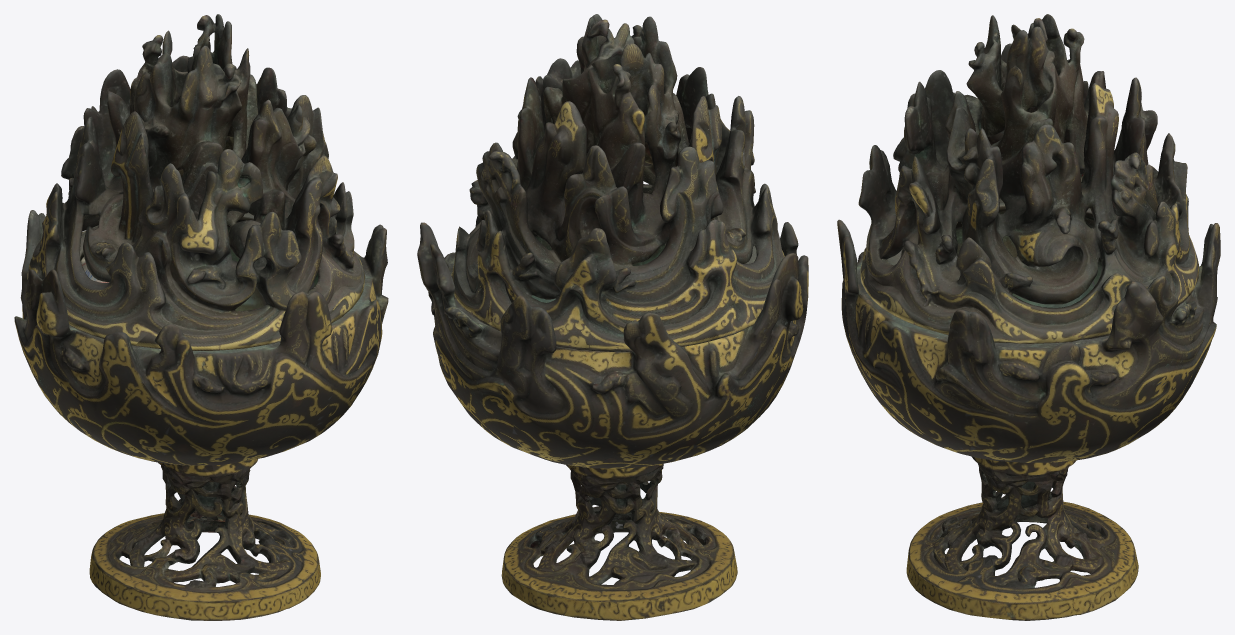
Rendered from CuoJintongBoShanLv.obj.
3 renders of one model, left to right at view 1: azimuth 30°, elevation 25°; view 2: azimuth 150°, elevation 25°; view 3: azimuth 270°, elevation 25°, orthographic.
Visible parts, largest first — view 1: CuoJintongBoShanLv01, CuoJintongBoShanLv02; view 2: CuoJintongBoShanLv01, CuoJintongBoShanLv02; view 3: CuoJintongBoShanLv01, CuoJintongBoShanLv02.
Boxes of the visible parts, left/top/right/bottom form: CuoJintongBoShanLv01: left=27, top=14, right=365, bottom=350; CuoJintongBoShanLv02: left=14, top=210, right=388, bottom=620; CuoJintongBoShanLv01: left=451, top=14, right=784, bottom=352; CuoJintongBoShanLv02: left=417, top=216, right=808, bottom=620; CuoJintongBoShanLv01: left=858, top=14, right=1199, bottom=343; CuoJintongBoShanLv02: left=837, top=198, right=1220, bottom=620.
Bounding box in the file's own units: 3.53 × 5.62 × 3.5.
